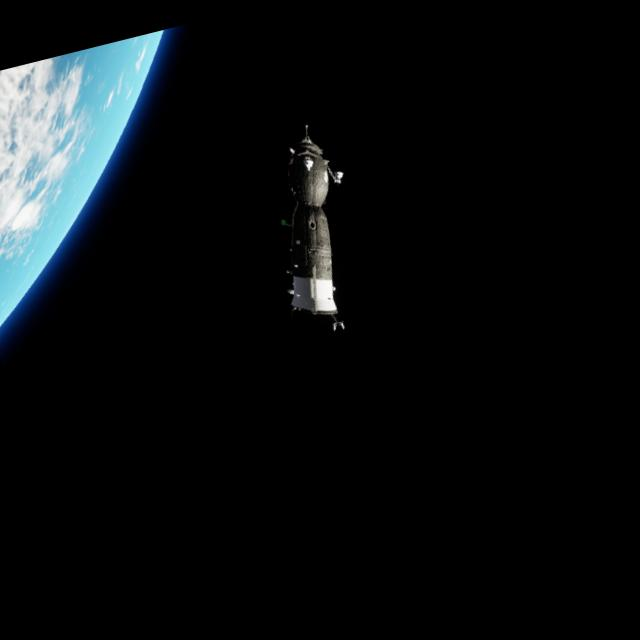Satellites revolving around earth: (245, 114, 382, 346)
